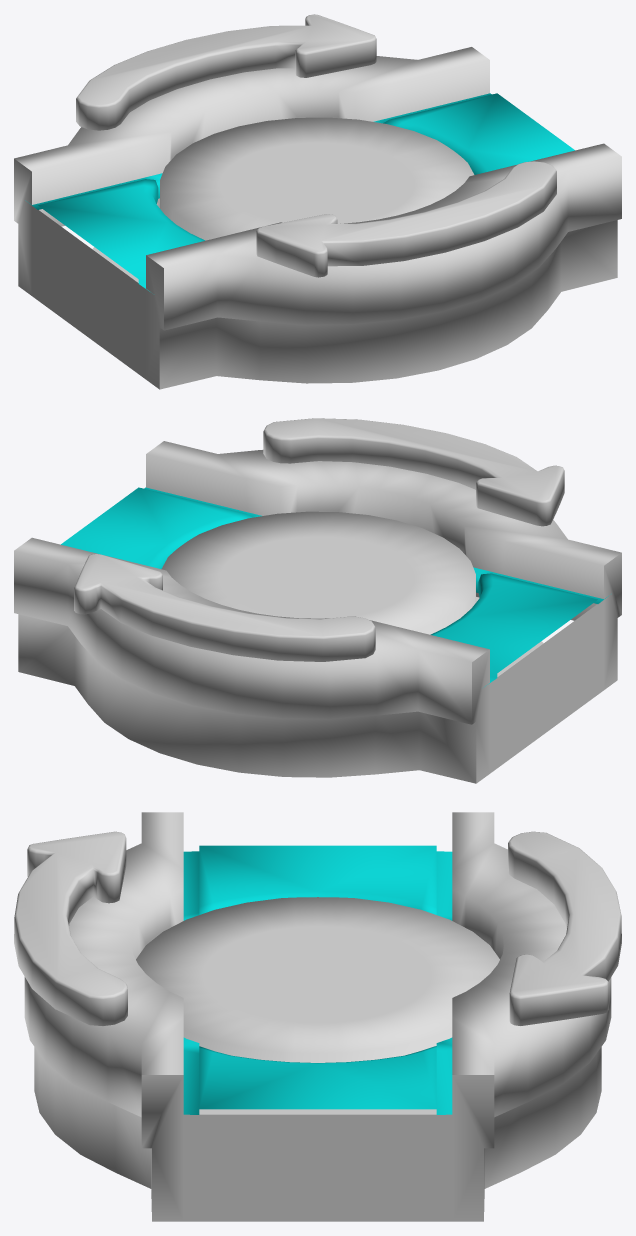
The model's file is RotatorHalfInternalVariant.gltf.
3 views of the same model, one above another, from view 1: azimuth 30°, elevation 25°; view 2: azimuth 150°, elevation 25°; view 3: azimuth 270°, elevation 25° (orthographic). The views are drawn at different scales.
Parts seen in each view (by area): view 1: Rotator_180_Main_LOD0, Rotator_180_Arrows_LOD0; view 2: Rotator_180_Main_LOD0, Rotator_180_Arrows_LOD0; view 3: Rotator_180_Main_LOD0, Rotator_180_Arrows_LOD0.
Boxes of the visible parts, x1=… form: Rotator_180_Main_LOD0: x1=14, y1=14, x2=621, y2=389; Rotator_180_Arrows_LOD0: x1=156, y1=117, x2=474, y2=240; Rotator_180_Main_LOD0: x1=14, y1=418, x2=621, y2=783; Rotator_180_Arrows_LOD0: x1=161, y1=511, x2=479, y2=634; Rotator_180_Main_LOD0: x1=14, y1=812, x2=621, y2=1221; Rotator_180_Arrows_LOD0: x1=136, y1=897, x2=499, y2=1062.
Size of the model in its own units: 1 by 0.3117 by 0.9784.
